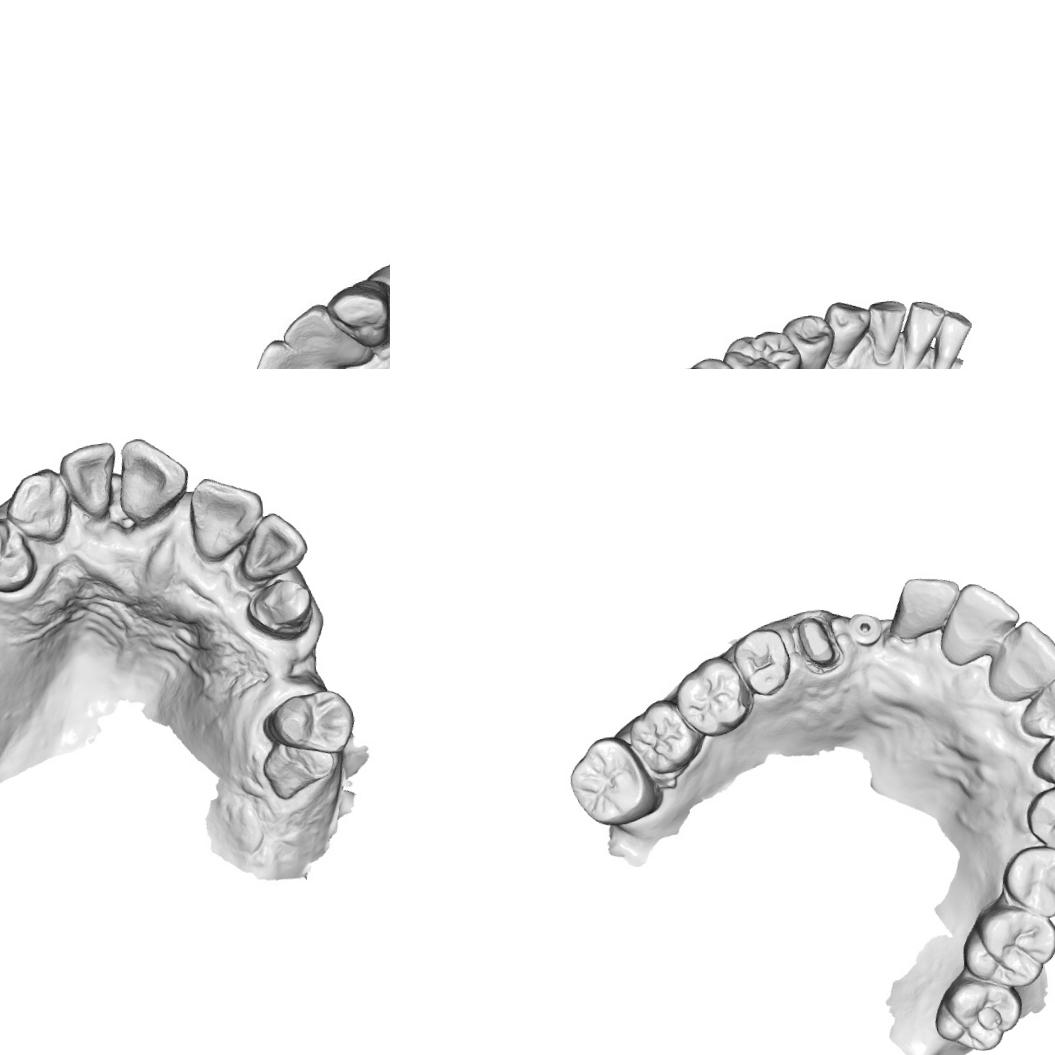canine: (2, 464, 75, 549), (322, 276, 390, 350), (821, 296, 877, 367), (1027, 724, 1055, 794)
crown: (788, 604, 846, 676)
implant: (846, 606, 889, 653)
incisor: (181, 470, 271, 564), (931, 578, 1022, 670), (110, 430, 193, 524), (979, 614, 1055, 703), (884, 568, 966, 644), (231, 508, 311, 582), (56, 439, 122, 524), (277, 302, 355, 369), (897, 292, 952, 369), (863, 296, 914, 368), (928, 304, 982, 369), (1014, 668, 1055, 746), (242, 333, 326, 369)
molar: (562, 731, 663, 832), (953, 897, 1055, 996), (929, 967, 1024, 1055), (670, 652, 756, 742), (623, 694, 704, 778), (720, 327, 805, 369), (665, 353, 751, 369)
premolar: (260, 686, 358, 762), (728, 623, 794, 700), (999, 840, 1055, 922), (780, 311, 840, 369), (0, 512, 38, 599), (1026, 783, 1055, 855)
